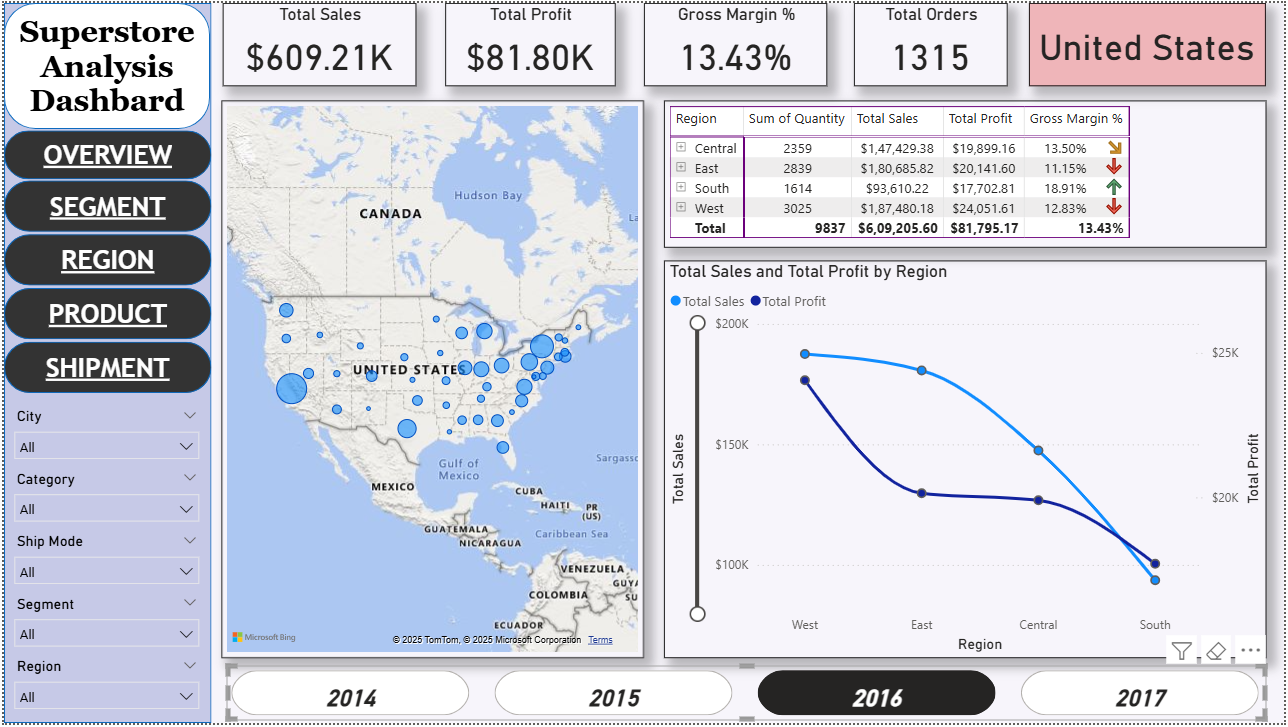

What the dashboard file says about the page in this screenshot:
{"tool":"powerbi","page":{"name":"Region wise Sales ","canvas":[1280,720],"ordinal":2},"visuals":[{"type":"card","title":"Total Orders","fields":{"Values":["Count(Sample - Superstore_cleaned.Order ID)"]},"box":[850,0,153.3,83.3],"z":3},{"type":"shape","box":[0,0,207.5,720],"z":4},{"type":"shape","box":[0,0,206,126],"z":5},{"type":"card","fields":{"Values":["Min(Sample - Superstore_cleaned.Country)"]},"box":[1025,0,236.7,83.3],"z":8},{"type":"map","fields":{"Category":["Sample - Superstore_cleaned.State"],"Size":["Key Measurers.Total Sales"]},"box":[217.5,97.5,422.5,557.5],"z":13},{"type":"pivotTable","fields":{"Rows":["Sample - Superstore_cleaned.Region","Sample - Superstore_cleaned.State","Sample - Superstore_cleaned.City","Sample - Superstore_cleaned.Category","Sample - Superstore_cleaned.Sub-Category"],"Values":["Sum(Sample - Superstore_cleaned.Quantity)","Key Measurers.Total Sales","Key Measurers.Total Profit","Key Measurers.Gross Margin %"]},"box":[660,97.5,602.5,147.5],"z":14},{"type":"lineChart","fields":{"Category":["Sample - Superstore_cleaned.Region"],"Y":["Key Measurers.Total Sales"],"Y2":["Key Measurers.Total Profit"]},"box":[660,257.5,602.5,397.5],"z":15},{"type":"advancedSlicerVisual","title":"Year as per Profit","fields":{"Values":["Sample - Superstore_cleaned.Year"]},"box":[222.5,662.5,1040,55],"z":21},{"type":"shape","box":[0,127.5,207.5,48.8],"z":22},{"type":"shape","box":[0,177.5,207.5,51.2],"z":23},{"type":"shape","box":[0,231.2,207.5,51.2],"z":24},{"type":"shape","box":[0,285,207.5,51.2],"z":25},{"type":"shape","box":[0,338.8,207.5,51.2],"z":26},{"type":"slicer","fields":{"Values":["Sample - Superstore_cleaned.City"]},"box":[0,400,205,62.5],"z":27},{"type":"slicer","fields":{"Values":["Sample - Superstore_cleaned.Category"]},"box":[0,462.5,205,62.5],"z":28},{"type":"slicer","fields":{"Values":["Sample - Superstore_cleaned.Ship Mode"]},"box":[0,525,205,62.5],"z":29},{"type":"slicer","fields":{"Values":["Sample - Superstore_cleaned.Segment"]},"box":[0,587.5,205,62.5],"z":30},{"type":"slicer","fields":{"Values":["Sample - Superstore_cleaned.Region"]},"box":[0,650,205,62.5],"z":31},{"type":"card","title":"Total Profit","fields":{"Values":["Key Measurers.Total Profit"]},"box":[441.7,0,170,83.3],"z":32},{"type":"card","title":"Gross Margin %","fields":{"Values":["Key Measurers.Gross Margin %"]},"box":[640,0,183.3,83.3],"z":33},{"type":"card","title":"Total Sales","fields":{"Values":["Key Measurers.Total Sales"]},"box":[218.3,0,193.3,83.3],"z":34}]}

Visuals, with their boxes in screenshot pixels (x1, y1, x2, y2), scaled from the page's 1280x720 canvas onto the 1288x727 screenshot:
"Total Orders" card: 855:0:1010:84
shape: 0:0:209:726
shape: 0:0:207:127
card - Min(Sample - Superstore_cleaned.Country): 1031:0:1270:84
map - Sample - Superstore_cleaned.State x Key Measurers.Total Sales: 219:98:644:661
pivotTable - Sample - Superstore_cleaned.Region x Sample - Superstore_cleaned.State: 664:98:1270:247
lineChart - Sample - Superstore_cleaned.Region x Key Measurers.Total Sales: 664:260:1270:661
"Year as per Profit" advancedSlicerVisual: 224:669:1270:724
shape: 0:129:209:178
shape: 0:179:209:231
shape: 0:233:209:285
shape: 0:288:209:339
shape: 0:342:209:394
slicer - Sample - Superstore_cleaned.City: 0:404:206:467
slicer - Sample - Superstore_cleaned.Category: 0:467:206:530
slicer - Sample - Superstore_cleaned.Ship Mode: 0:530:206:593
slicer - Sample - Superstore_cleaned.Segment: 0:593:206:656
slicer - Sample - Superstore_cleaned.Region: 0:656:206:719
"Total Profit" card: 444:0:616:84
"Gross Margin %" card: 644:0:828:84
"Total Sales" card: 220:0:414:84
